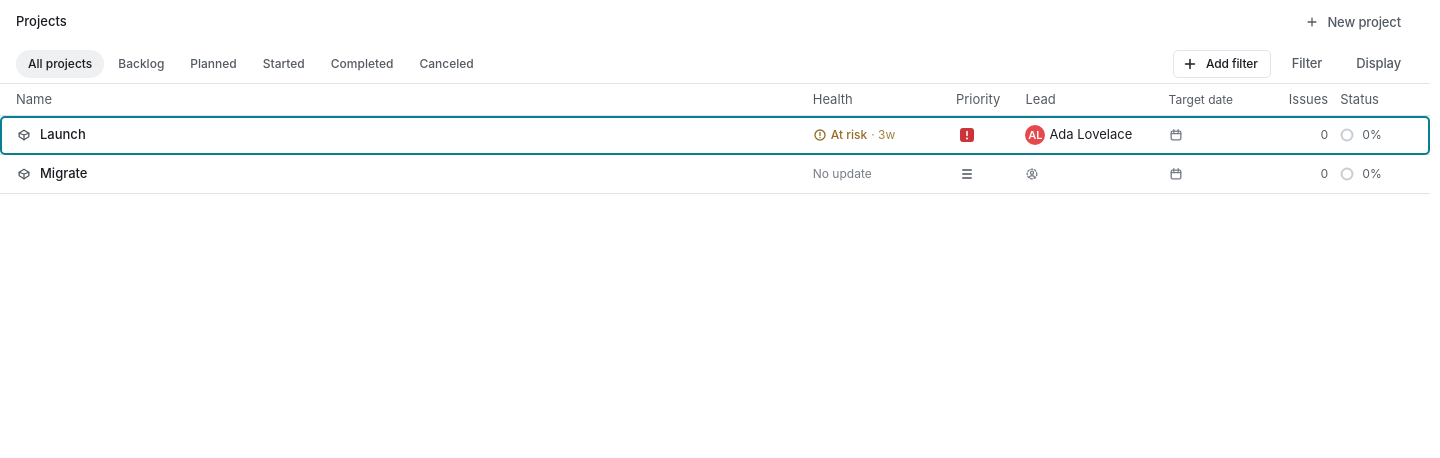
Scenario: the projects list › keeps the rarer filters behind a control instead of two standing dropdowns
The width and height of the screenshot is (1440, 458).
Expected: the field labelled "Customers" is not shown
Expected: the field labelled "Dependencies" is not shown
Click the button "Filter" at (1307, 64), box [1279,50,1335,78]
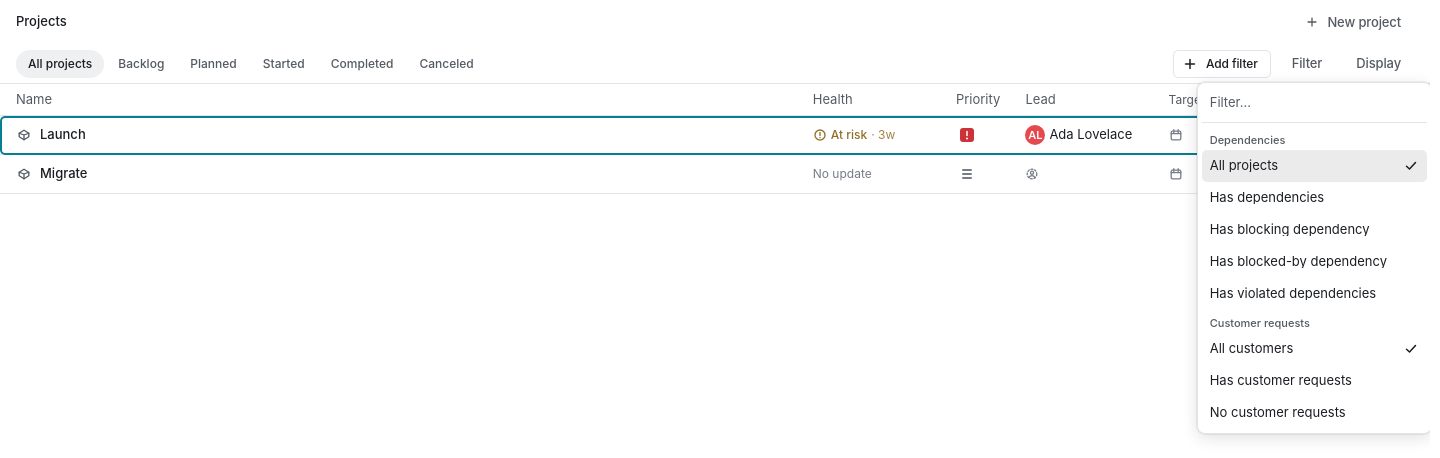
Expected: the menu item "Has violated dependencies" is shown, [1210,285,1376,301]
Expected: the menu item "Has customer requests" is shown, [1210,372,1352,388]
